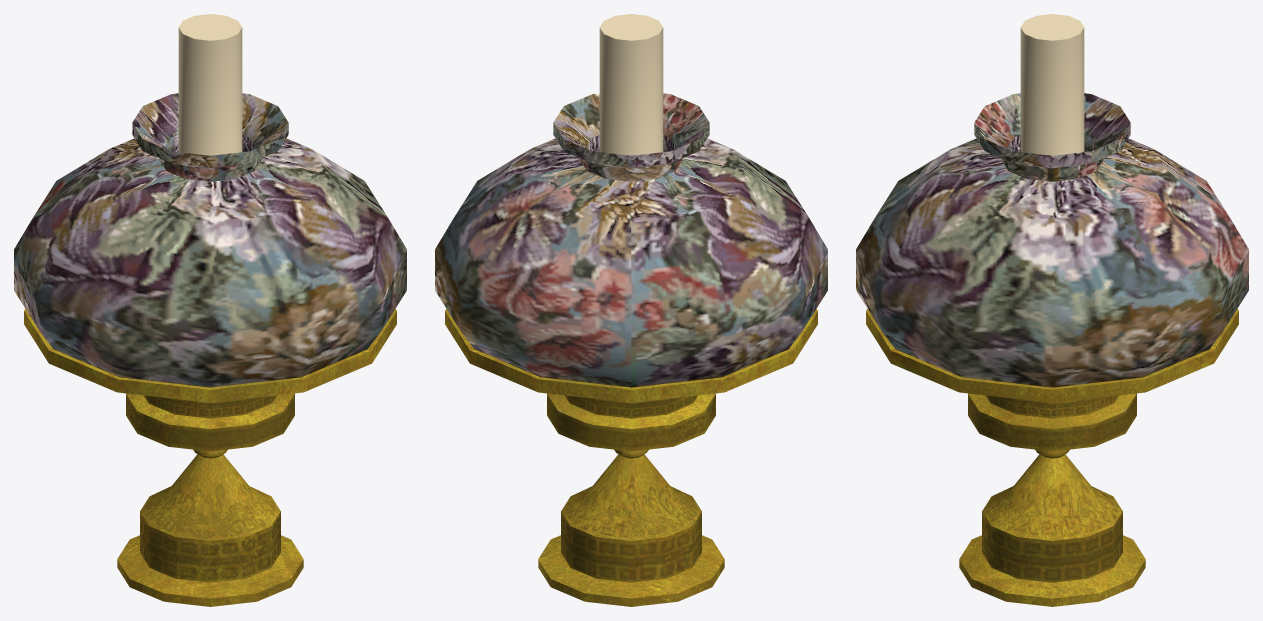
File: gas_lamp_desk_flowers.DAE
3 views of the same model, side by side, from view 1: azimuth 30°, elevation 25°; view 2: azimuth 150°, elevation 25°; view 3: azimuth 270°, elevation 25° (orthographic).
Parts seen in each view (by area): view 1: Cylinder002; view 2: Cylinder002; view 3: Cylinder002.
Part boxes in pixels (box(x1,y1,x2,y2)): Cylinder002: box(14, 14, 406, 606); Cylinder002: box(435, 14, 827, 606); Cylinder002: box(856, 14, 1248, 606).
Size of the model in its own units: 0.7935 by 1.2 by 0.7935.
